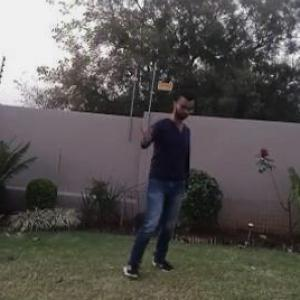takeoff-hand: (130, 111, 155, 145)
